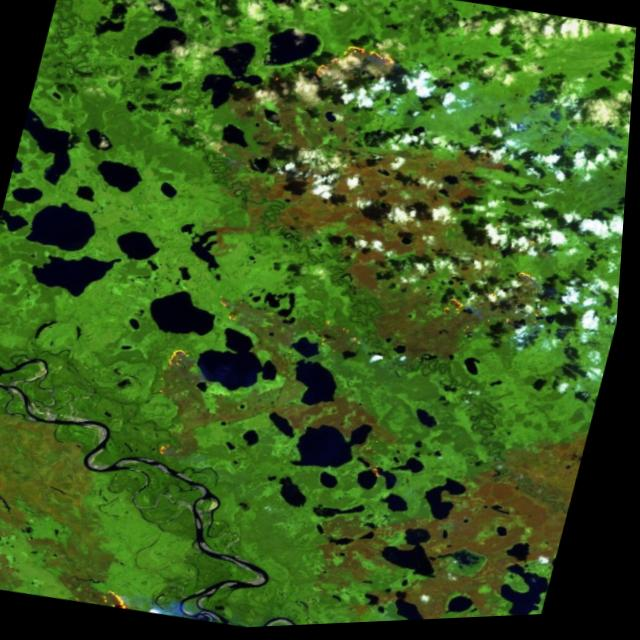fire: (307, 34, 405, 103), (436, 291, 487, 339), (91, 580, 151, 614), (159, 340, 208, 378), (156, 437, 194, 471)
